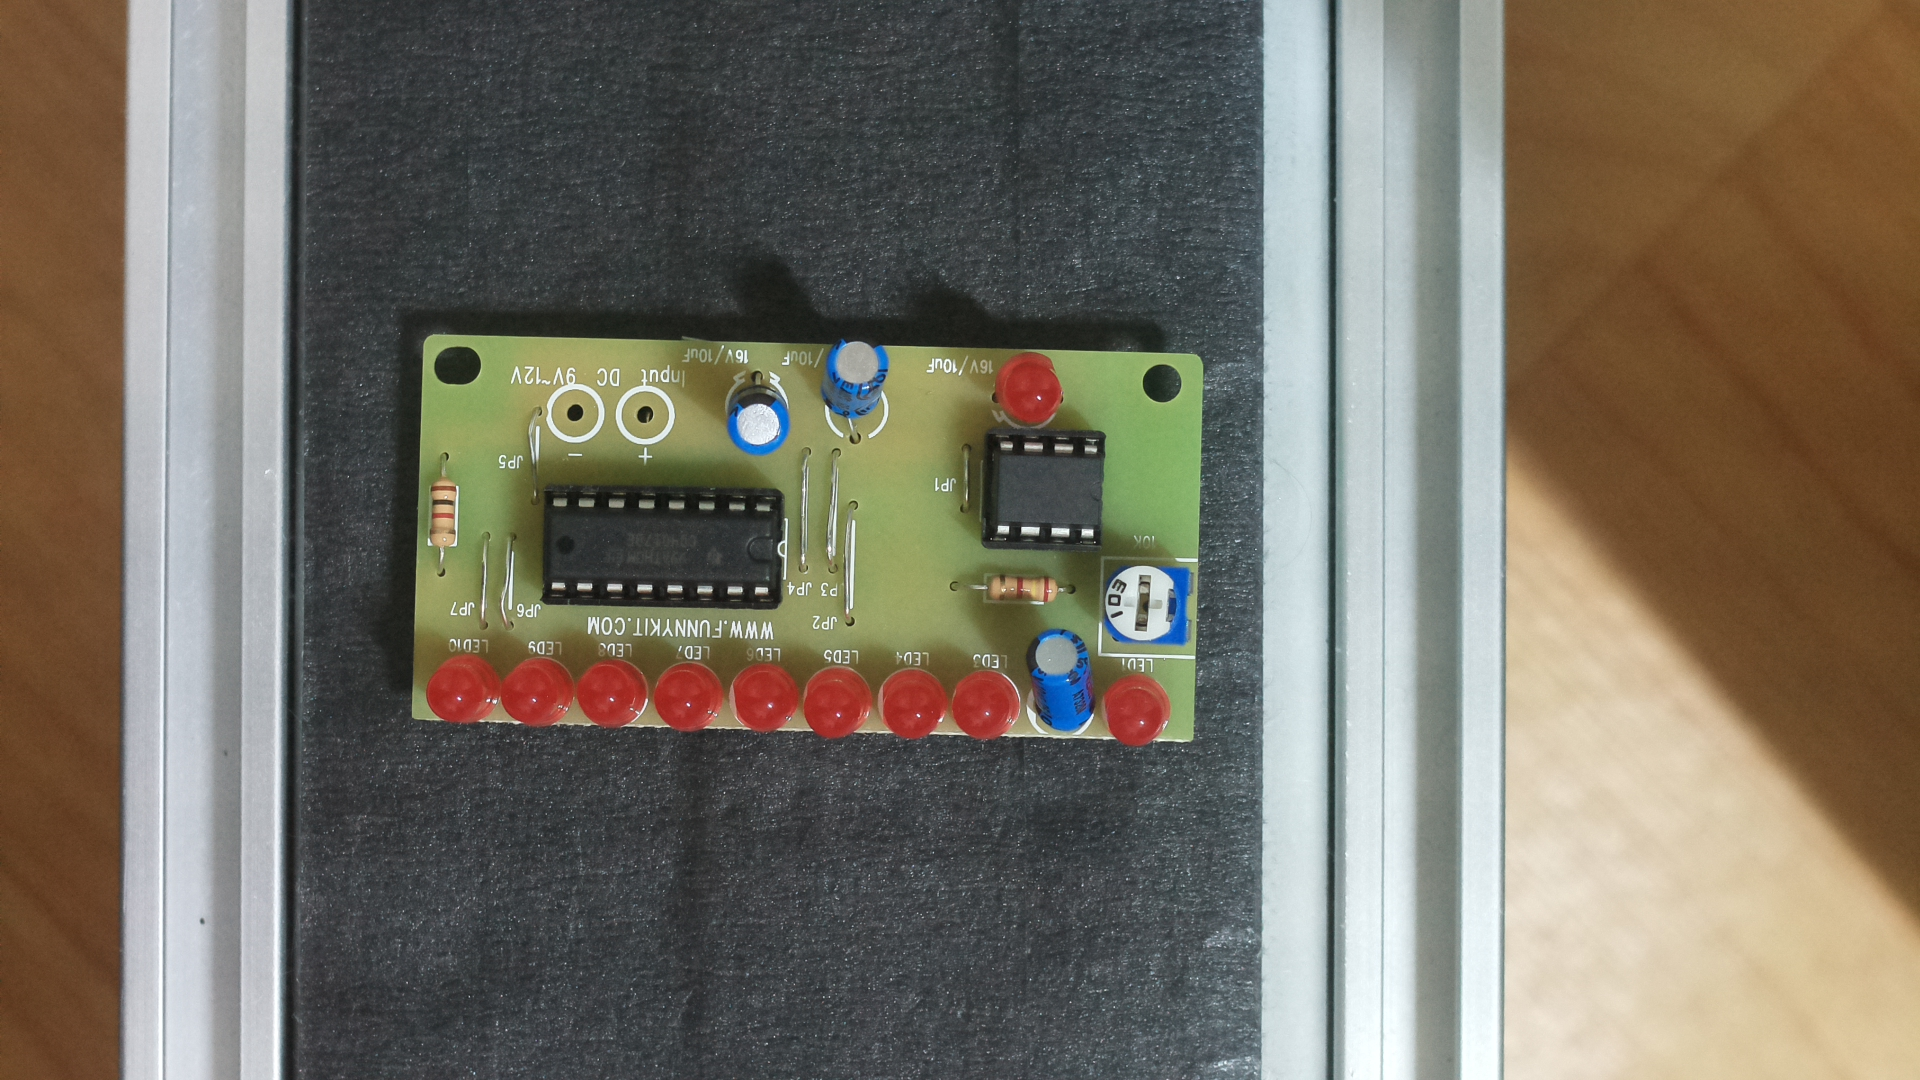B_Misordered: (385, 298, 1222, 761)
